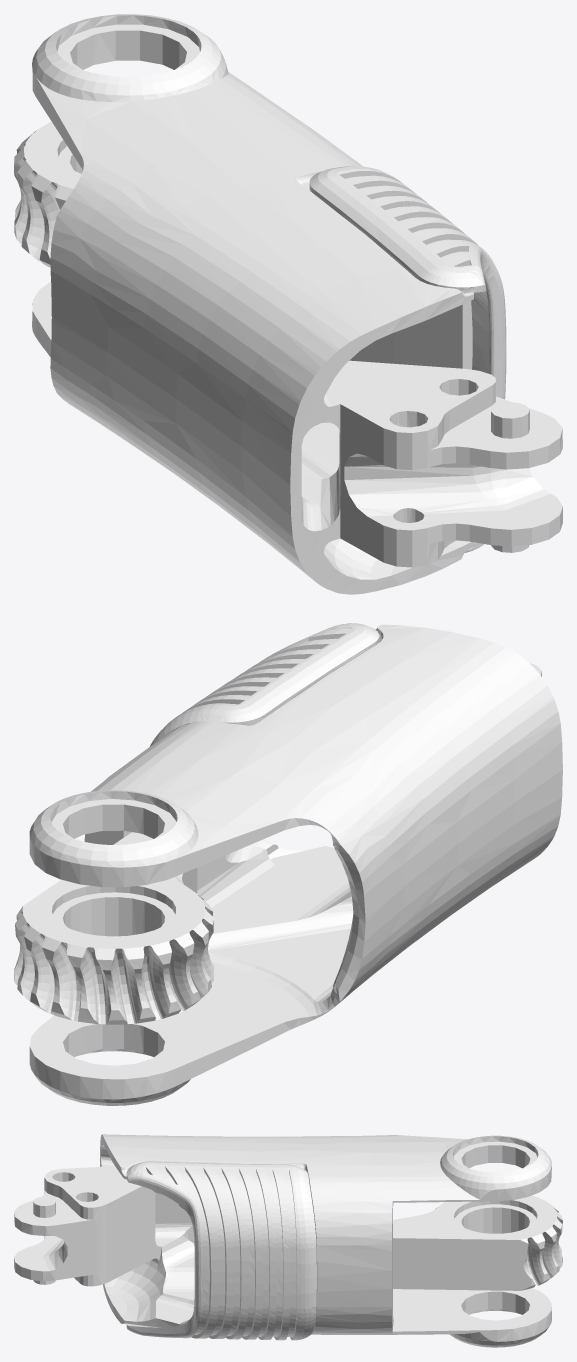
The model's file is lh_ring_proximal_vis.obj.
The picture shows the model from 3 angles, top to bottom: view 1: azimuth 30°, elevation 25°; view 2: azimuth 150°, elevation 25°; view 3: azimuth 270°, elevation 25°; orthographic projection. The views are drawn at different scales.
Visible parts, largest first — view 1: lh_ring_proximal; view 2: lh_ring_proximal; view 3: lh_ring_proximal.
Part boxes in pixels (x1=…): lh_ring_proximal: x1=14, y1=14, x2=562, y2=594; lh_ring_proximal: x1=14, y1=623, x2=562, y2=1105; lh_ring_proximal: x1=14, y1=1134, x2=562, y2=1347.
Size of the model in its own units: 0.0186 by 0.0168 by 0.0479.
1 material, 1 textured.
